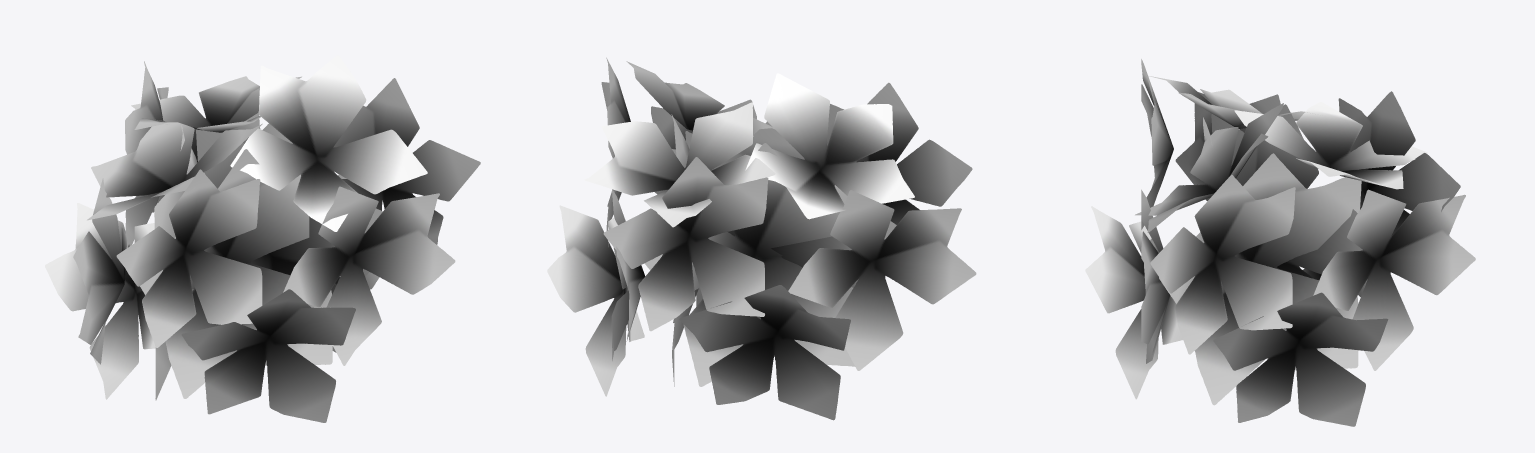
File: small-bush.fbx
The picture shows the model from 3 angles, left to right: view 1: azimuth 30°, elevation 25°; view 2: azimuth 150°, elevation 25°; view 3: azimuth 270°, elevation 25°; orthographic projection.
Visible parts, largest first — view 1: Bush; view 2: Bush; view 3: Bush.
Boxes of the visible parts, x1=… form: Bush: x1=45, y1=55, x2=480, y2=422; Bush: x1=547, y1=57, x2=976, y2=420; Bush: x1=1085, y1=59, x2=1475, y2=426.
Size of the model in its own units: 2.48 by 1.86 by 2.31.
Materials: 1 (1 with a texture image).
